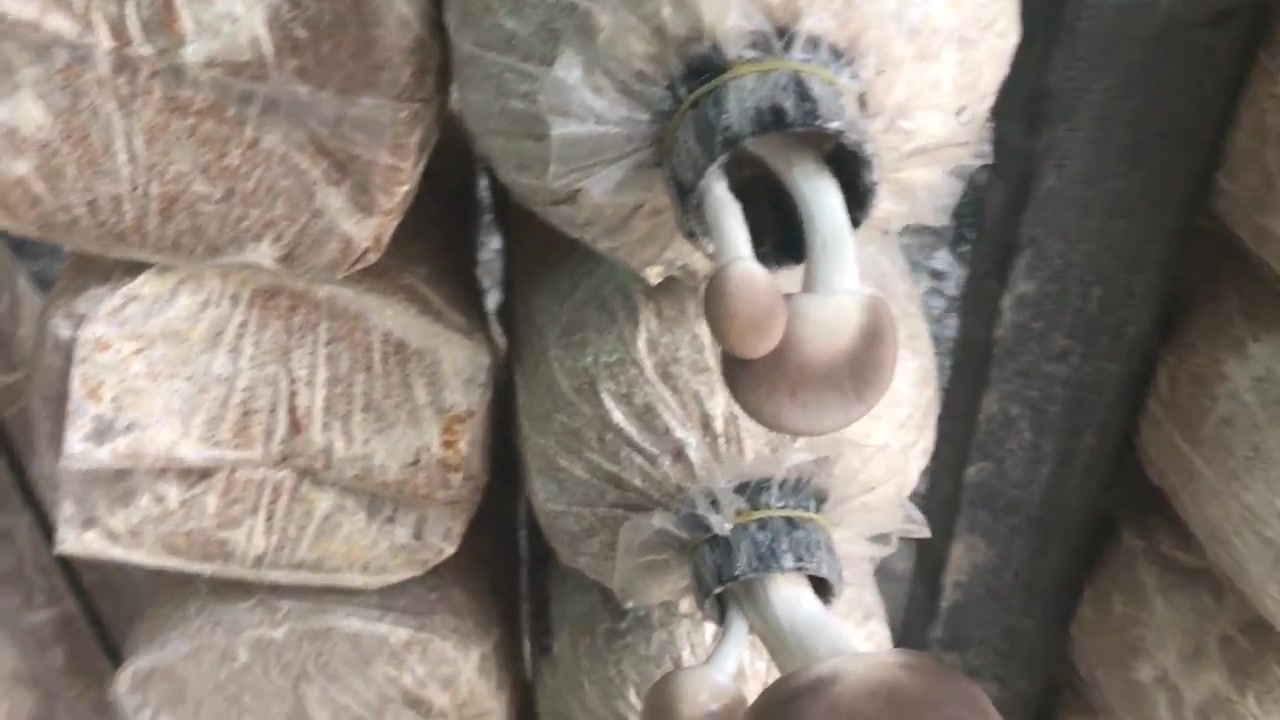nam: (670, 67, 898, 434), (645, 510, 998, 720)
